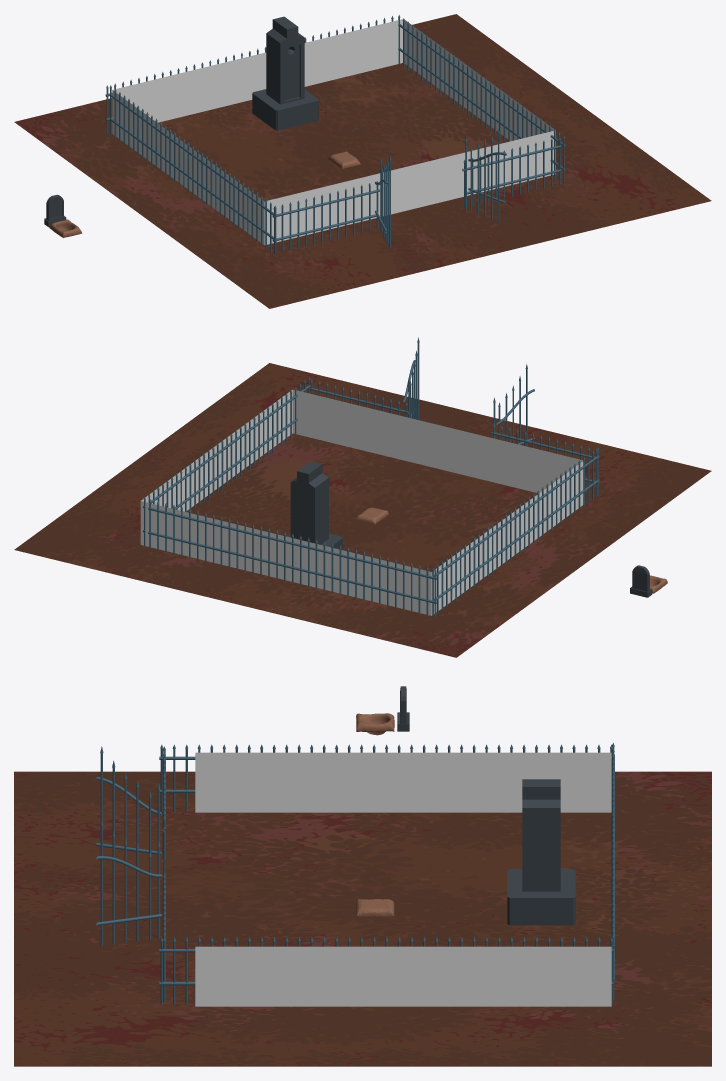
File: obelisk.fbx
The picture shows the model from 3 angles, top to bottom: view 1: azimuth 30°, elevation 25°; view 2: azimuth 150°, elevation 25°; view 3: azimuth 270°, elevation 25°; orthographic projection. The views are drawn at different scales.
Visible parts, largest first — view 1: Plane, Walls, Cylinder.001, Obelisk, Cylinder.006, left gate, Tombstone.001; view 2: Plane, Walls, Cylinder.001, Obelisk, left gate, Cylinder.006, Tombstone.001; view 3: Plane, Walls, Obelisk, Cylinder.001, left gate, Cylinder.006, GravePlotDug, GravePlot.
Part boxes in pixels (bbox=[...]): Plane: bbox=[14, 14, 711, 308]; Walls: bbox=[112, 19, 555, 245]; Cylinder.001: bbox=[105, 15, 565, 254]; Obelisk: bbox=[252, 16, 318, 130]; Cylinder.006: bbox=[272, 136, 561, 254]; left gate: bbox=[375, 129, 506, 248]; Tombstone.001: bbox=[44, 194, 66, 227]; Plane: bbox=[14, 363, 711, 657]; Walls: bbox=[140, 389, 583, 615]; Cylinder.001: bbox=[143, 376, 599, 617]; Obelisk: bbox=[287, 461, 342, 550]; left gate: bbox=[403, 337, 534, 446]; Cylinder.006: bbox=[310, 379, 598, 496]; Tombstone.001: bbox=[630, 565, 652, 597]; Plane: bbox=[14, 771, 711, 1066]; Walls: bbox=[195, 752, 611, 1006]; Obelisk: bbox=[507, 779, 575, 925]; Cylinder.001: bbox=[159, 743, 614, 1004]; left gate: bbox=[96, 746, 162, 946]; Cylinder.006: bbox=[162, 746, 165, 1002]; GravePlotDug: bbox=[356, 713, 394, 735]; GravePlot: bbox=[356, 899, 394, 916].
Bounding box in the file's own units: 2420 × 446 × 2045.
